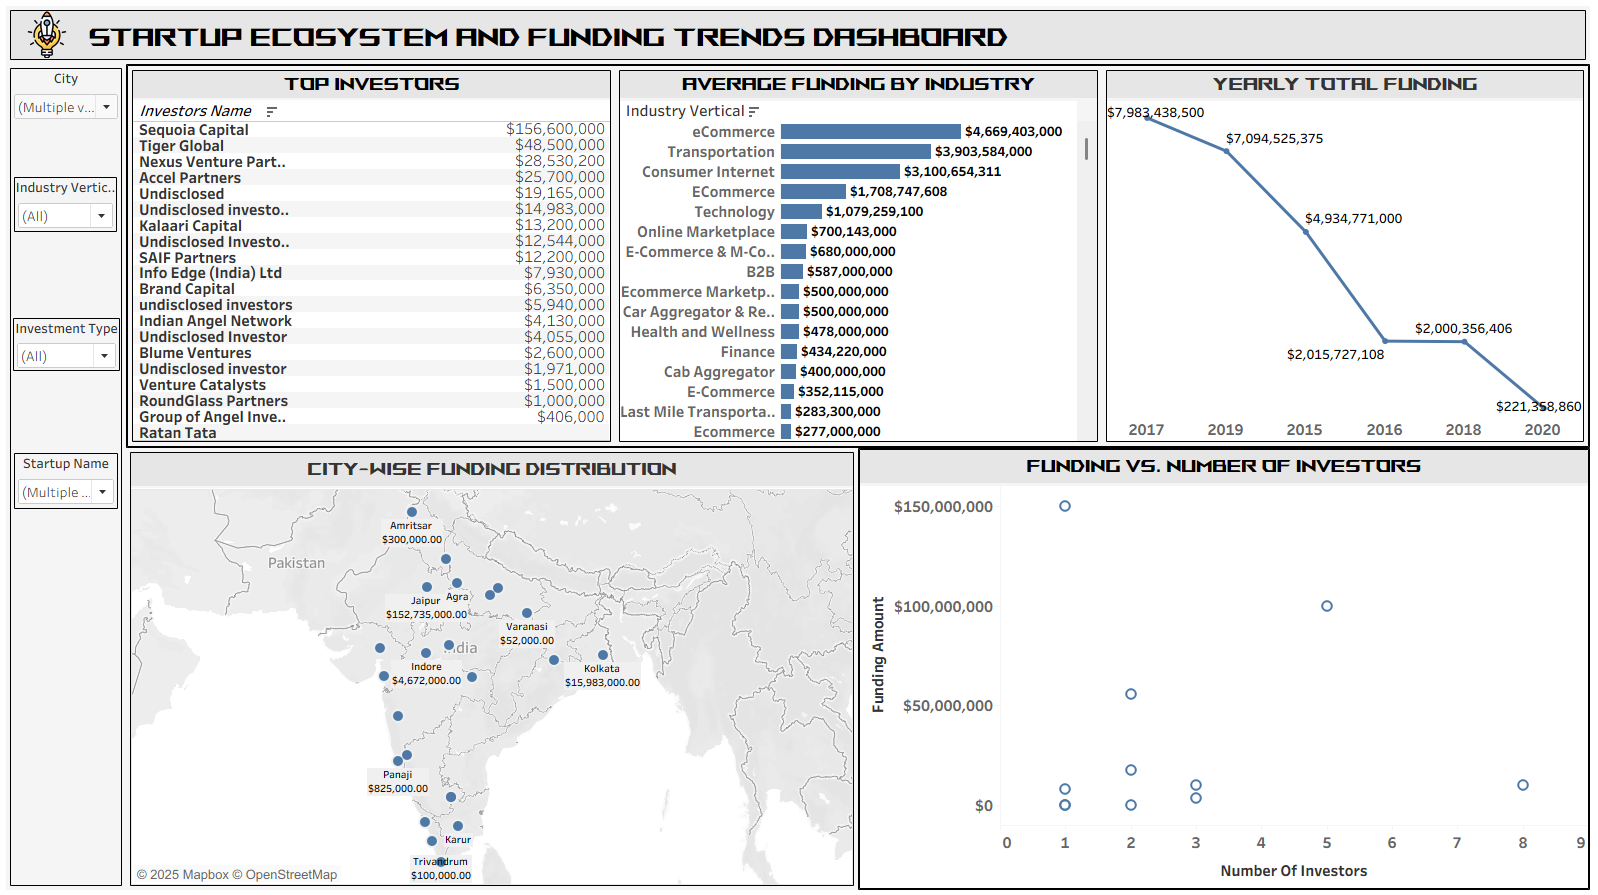

The dashboard page shown, as its layout file describes it:
{"tool":"tableau","page":{"name":"Dashboard 1","canvas":[1600,900],"ordinal":0},"visuals":[{"type":"text","box":[8,8,1584,58]},{"type":"image","param":"E:/Reading/Python/KRMU Data Science/Capstone Project/Startup Dashboard/8744839.p","box":[14,13,69,47]},{"type":"filter","title":"Average Funding by Industry","param":"[federated.1q0hamp12clks719newkh0xnagnb].[none:City  Location:nk]","box":[8,66,120,826]},{"type":"worksheet","title":"Top Investors","mark":"Automatic","rows":["Investors Name"],"box":[130,68,487,379.9]},{"type":"worksheet","title":"Average Funding by Industry","mark":"Bar","rows":["Industry Vertical"],"cols":["Calculation_740560701791731713"],"box":[617,68,487,380]},{"type":"worksheet","title":"Yearly Total Funding","mark":"Line","rows":["Calculation_740560701791731713"],"cols":["Date dd/mm/yyyy"],"box":[1104,68,486,380]},{"type":"filter","title":"Average Funding by Industry","param":"[federated.1q0hamp12clks719newkh0xnagnb].[none:Industry Vertical:nk]","box":[16,179,103,55]},{"type":"filter","title":"Average Funding by Industry","param":"[federated.1q0hamp12clks719newkh0xnagnb].[none:InvestmentnType:nk]","box":[15,320,107,53]},{"type":"worksheet","title":"City-Wise Funding Distribution","mark":"Automatic","box":[128,450,732,442]},{"type":"worksheet","title":"Funding vs. Number of Investors","mark":"Automatic","rows":["Calculation_740560701791731713"],"cols":["Calculation_740560701779005440"],"box":[861,451,730,440]},{"type":"filter","title":"Funding vs. Number of Investors","param":"[federated.1q0hamp12clks719newkh0xnagnb].[none:Startup Name:nk]","box":[16,455,104,56]}]}

Visuals, with their boxes in screenshot pixels (x1, y1, x2, y2), scaled from the page's 1600x900 canvas onto the 1598x895 screenshot:
text: [8, 8, 1590, 66]
image: [14, 13, 83, 60]
"Average Funding by Industry" filter: [8, 66, 128, 887]
"Top Investors" worksheet: [130, 68, 616, 445]
"Average Funding by Industry" worksheet (Bar marks): [616, 68, 1103, 446]
"Yearly Total Funding" worksheet (Line marks): [1103, 68, 1588, 446]
"Average Funding by Industry" filter: [16, 178, 119, 233]
"Average Funding by Industry" filter: [15, 318, 122, 371]
"City-Wise Funding Distribution" worksheet: [128, 448, 859, 887]
"Funding vs. Number of Investors" worksheet: [860, 448, 1589, 886]
"Funding vs. Number of Investors" filter: [16, 452, 120, 508]
